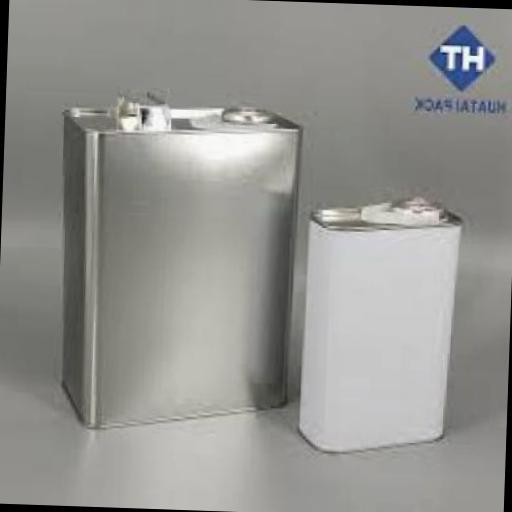metal: (60, 93, 306, 436), (298, 192, 466, 458)
